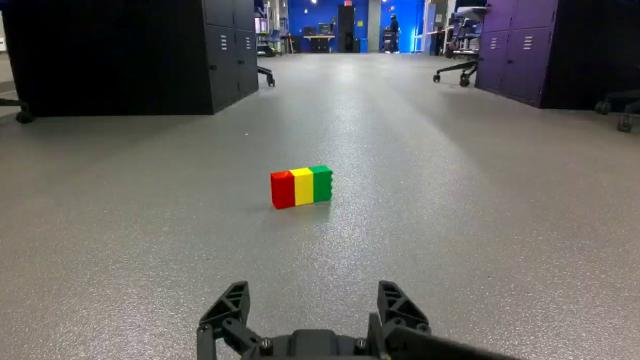lego: (269, 171, 335, 205)
